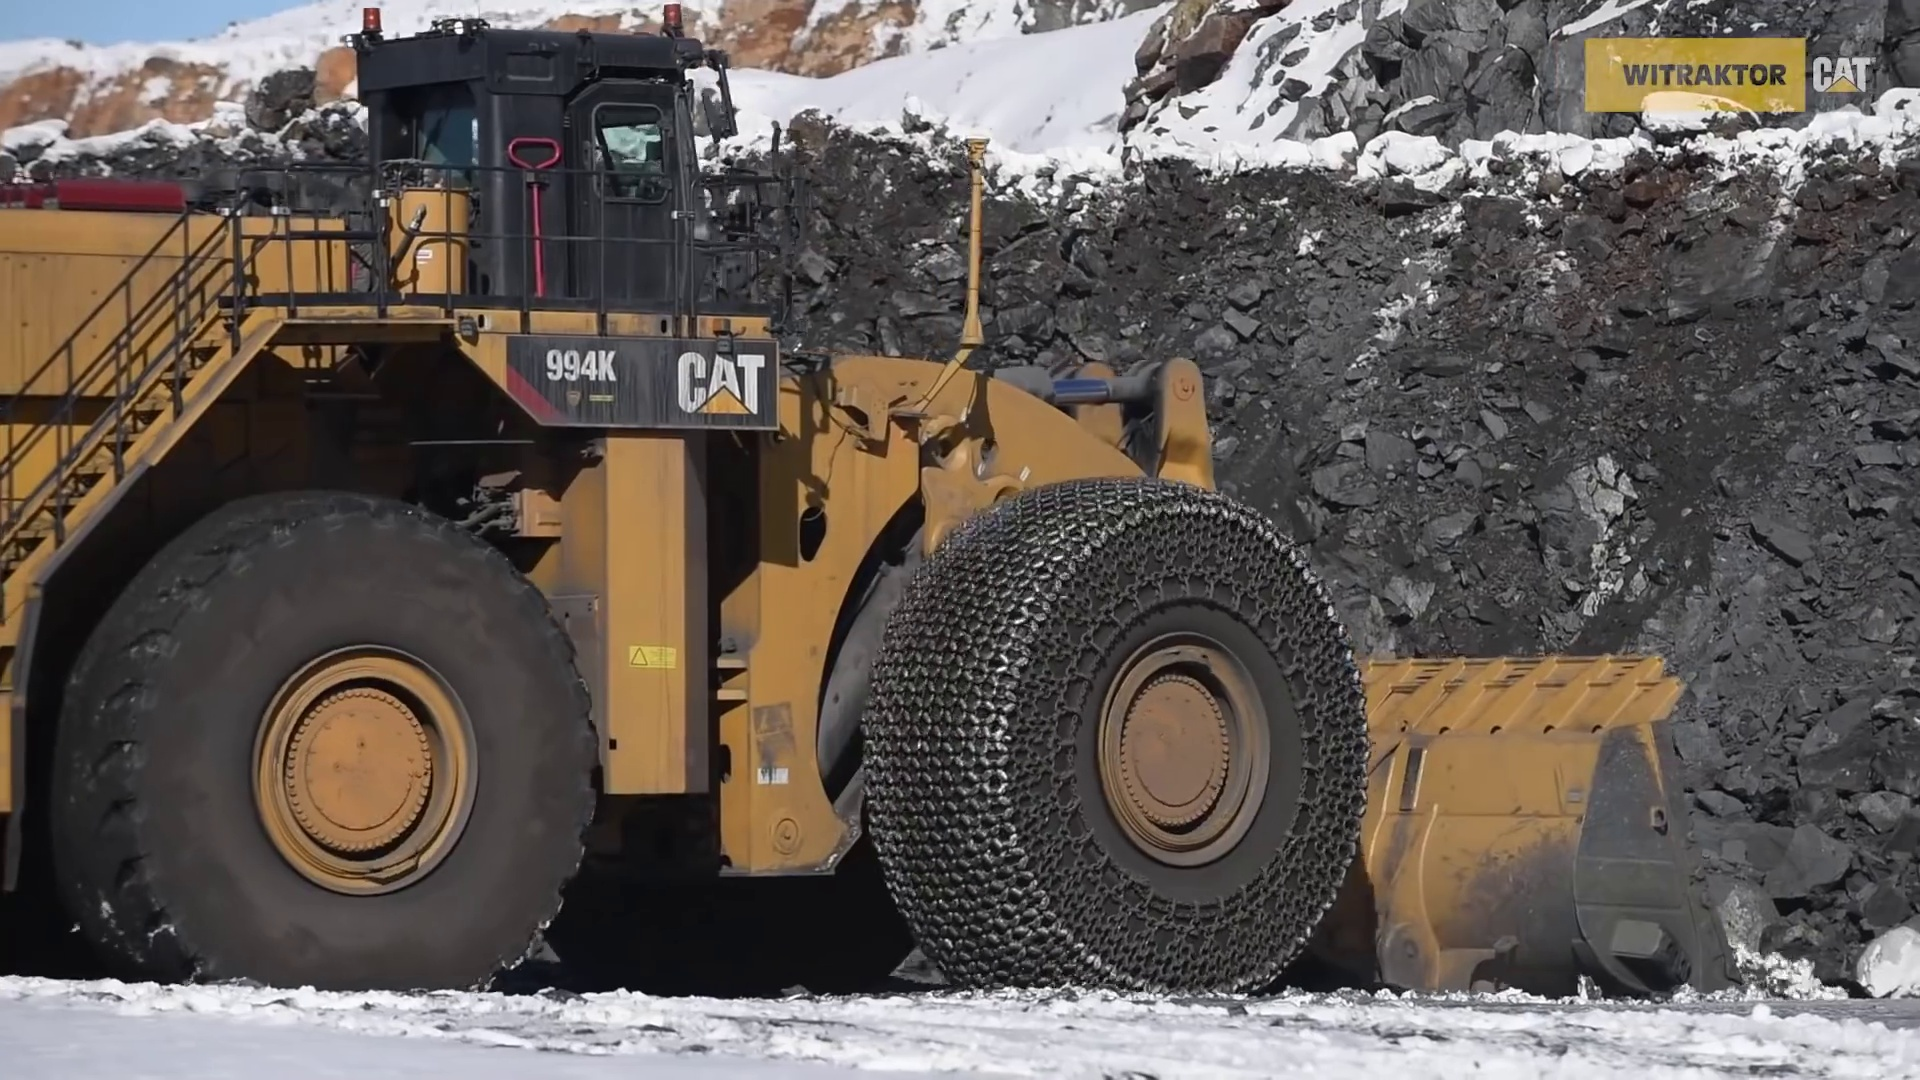wheel loader: (1, 3, 1759, 993)
